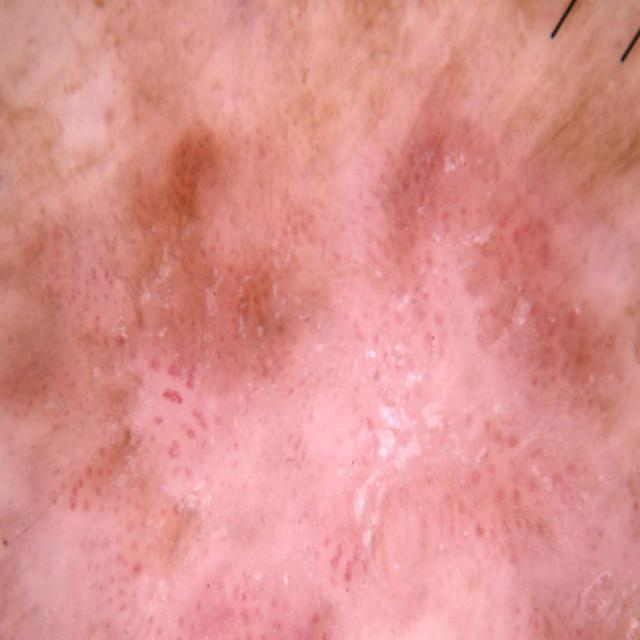Carcinoma: (15, 133, 567, 640)
